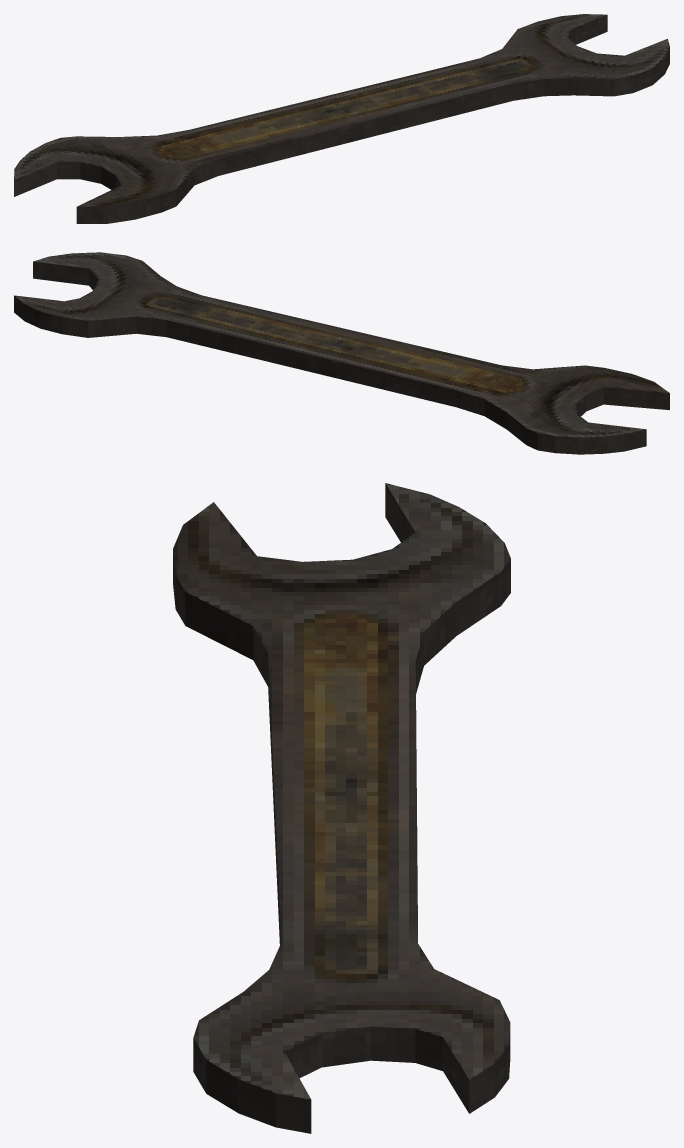
The model's file is wrench_mx_1.glb.
3 views of the same model, one above another, from view 1: azimuth 30°, elevation 25°; view 2: azimuth 150°, elevation 25°; view 3: azimuth 270°, elevation 25° (orthographic). The views are drawn at different scales.
Parts seen in each view (by area): view 1: wrench_mx_1; view 2: wrench_mx_1; view 3: wrench_mx_1.
Boxes of the visible parts, x1,y1,x2,y2 form: wrench_mx_1: (14, 14, 669, 223); wrench_mx_1: (14, 252, 669, 454); wrench_mx_1: (173, 483, 510, 1133).
Size of the model in its own units: 0.3877 by 0.01 by 0.0898.
1 material, 1 textured.
